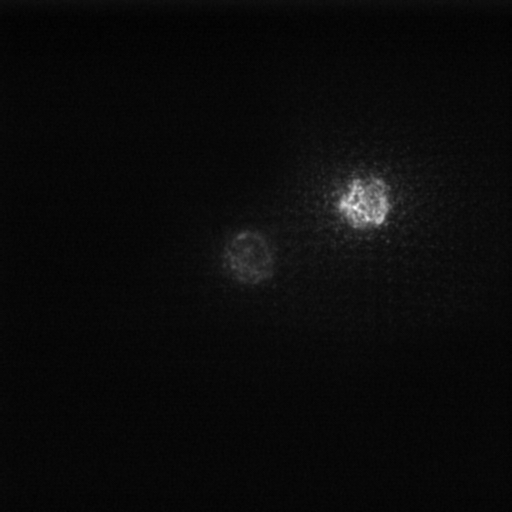lam3: (334, 177, 391, 228)
